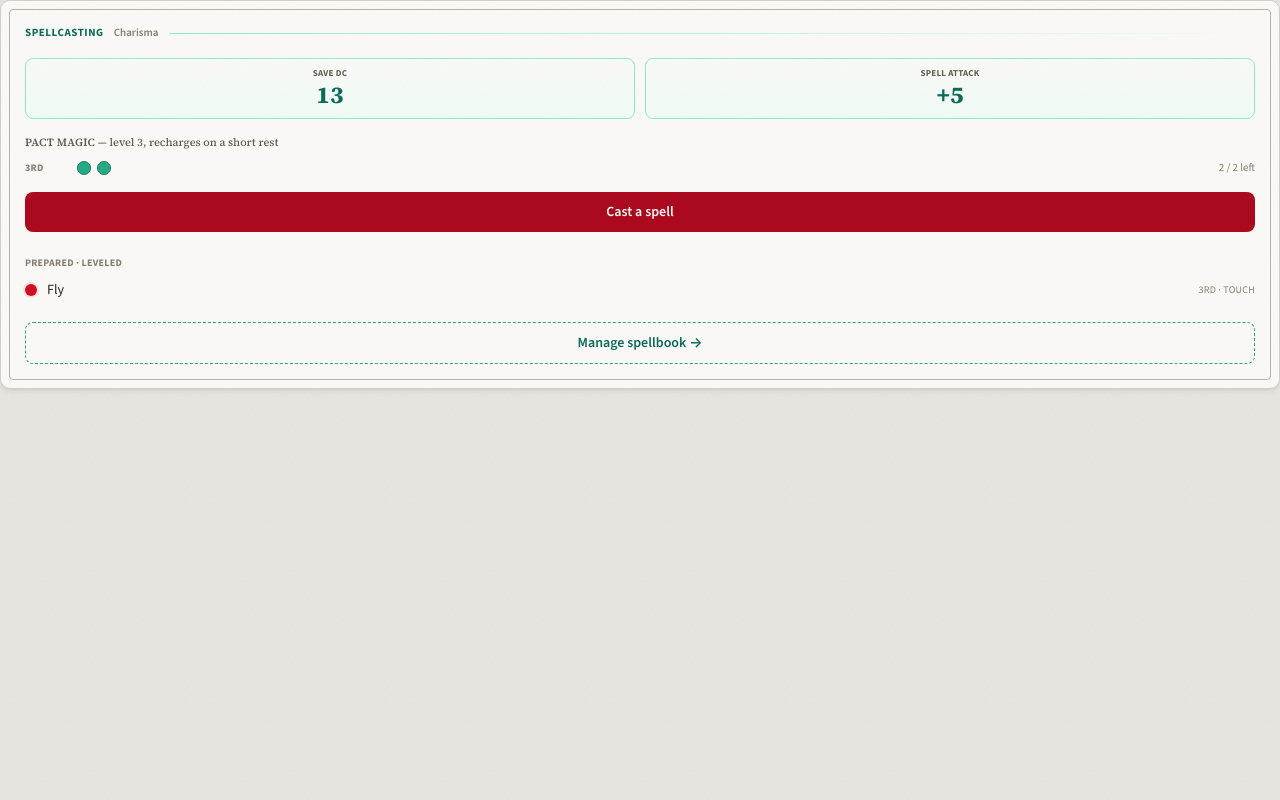
Scenario: SpellsSection slot labelling › labels a warlock's grimoire slot group Pact Magic with the fixed-level note
This screenshot has width=1280, height=800.
Click the button "Manage spellbook →" at (640, 343), box [25,322,1255,364]
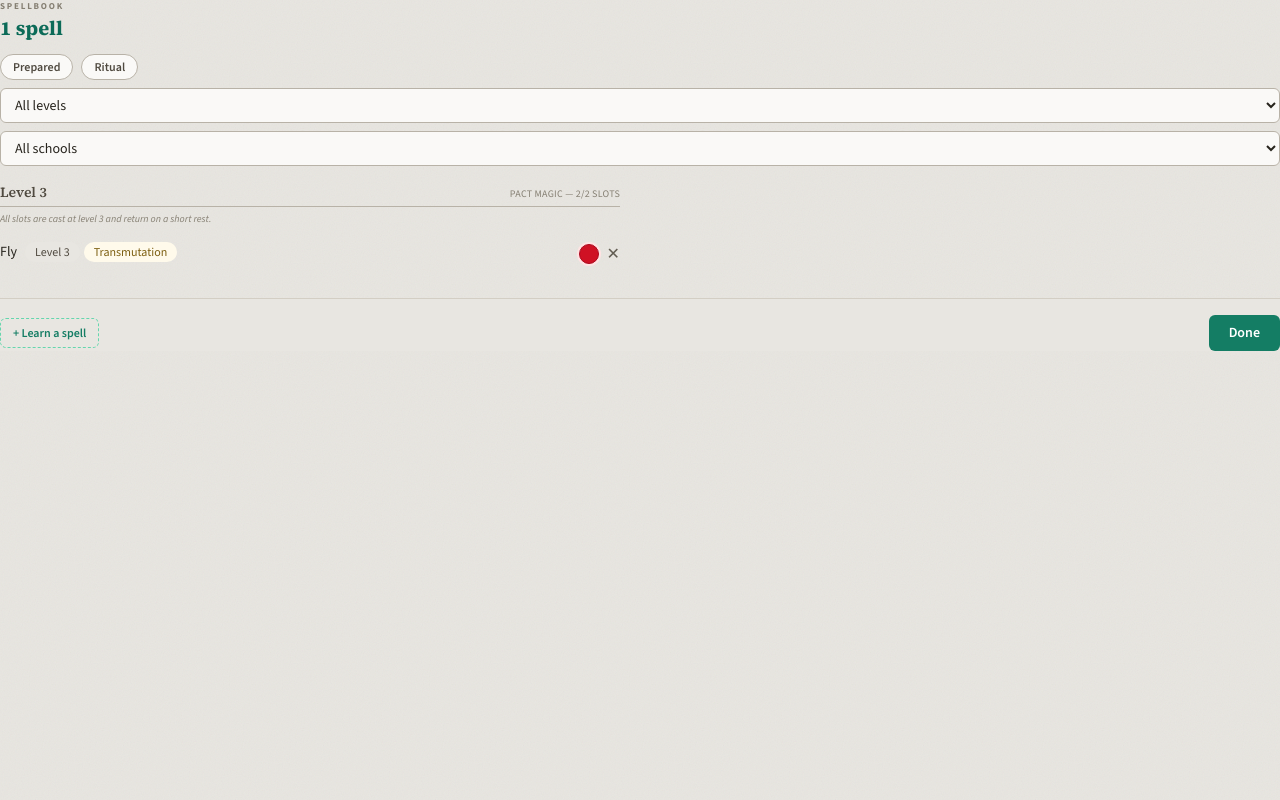
Result: the text "Pact Magic — 2/2 slots" is shown at [510,186,620,200]
Result: the text "All slots are cast at level 3 and return on a short rest." is shown at [0,212,211,224]
